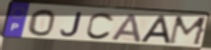A: (138, 15, 173, 46), (109, 13, 143, 44)
C: (85, 11, 116, 41)
J: (59, 11, 83, 38)
M: (166, 15, 210, 47)
O: (27, 8, 57, 37)
